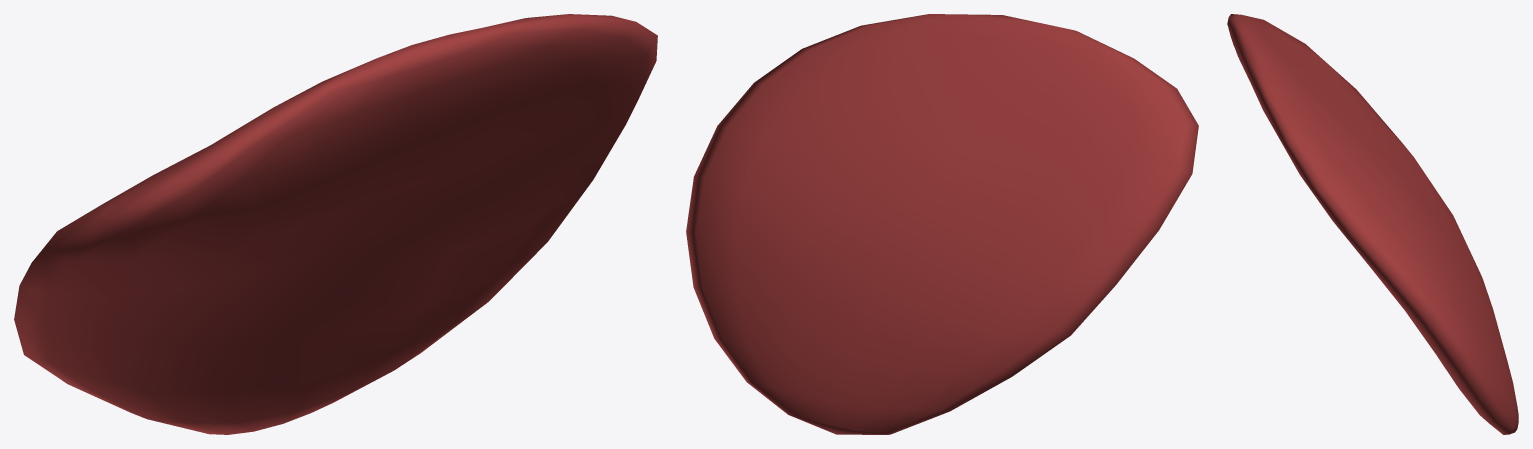
Rendered from subtendinous-bursa-of-trapezius-muscle-r.glb.
3 renders of one model, left to right at view 1: azimuth 30°, elevation 25°; view 2: azimuth 150°, elevation 25°; view 3: azimuth 270°, elevation 25°, orthographic. The views are drawn at different scales.
Visible parts, largest first — view 1: Subtendinous bursa of trapezius muscle.r; view 2: Subtendinous bursa of trapezius muscle.r; view 3: Subtendinous bursa of trapezius muscle.r.
Boxes of the visible parts, bbox=[...] form: Subtendinous bursa of trapezius muscle.r: bbox=[14, 14, 657, 434]; Subtendinous bursa of trapezius muscle.r: bbox=[686, 14, 1198, 434]; Subtendinous bursa of trapezius muscle.r: bbox=[1227, 14, 1518, 434].
Size of the model in its own units: 0.0373 by 0.0275 by 0.0212.
